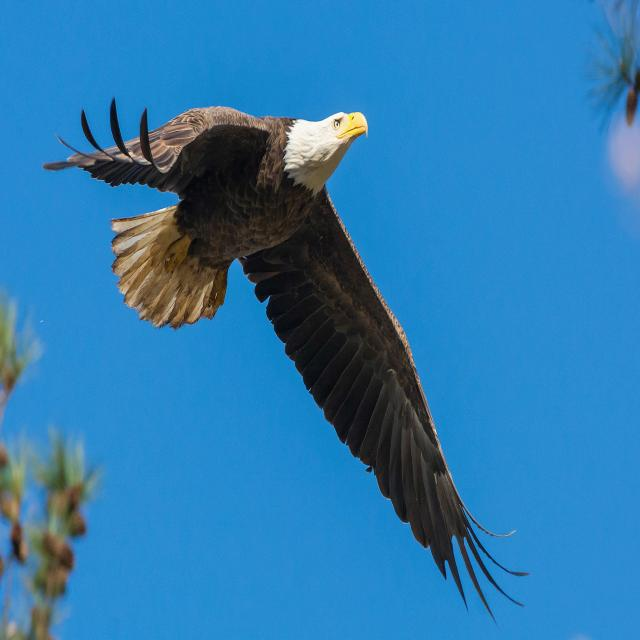eagle: (43, 100, 500, 612)
